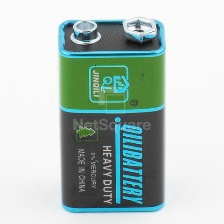battery: (51, 10, 168, 214)
